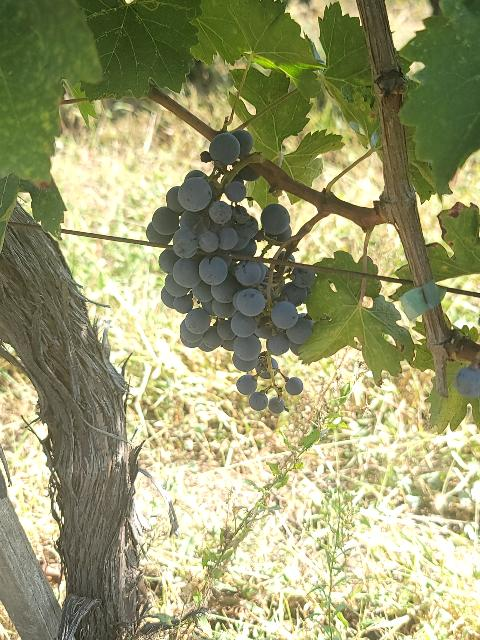grapes: (146, 129, 259, 351), (229, 259, 315, 414)
